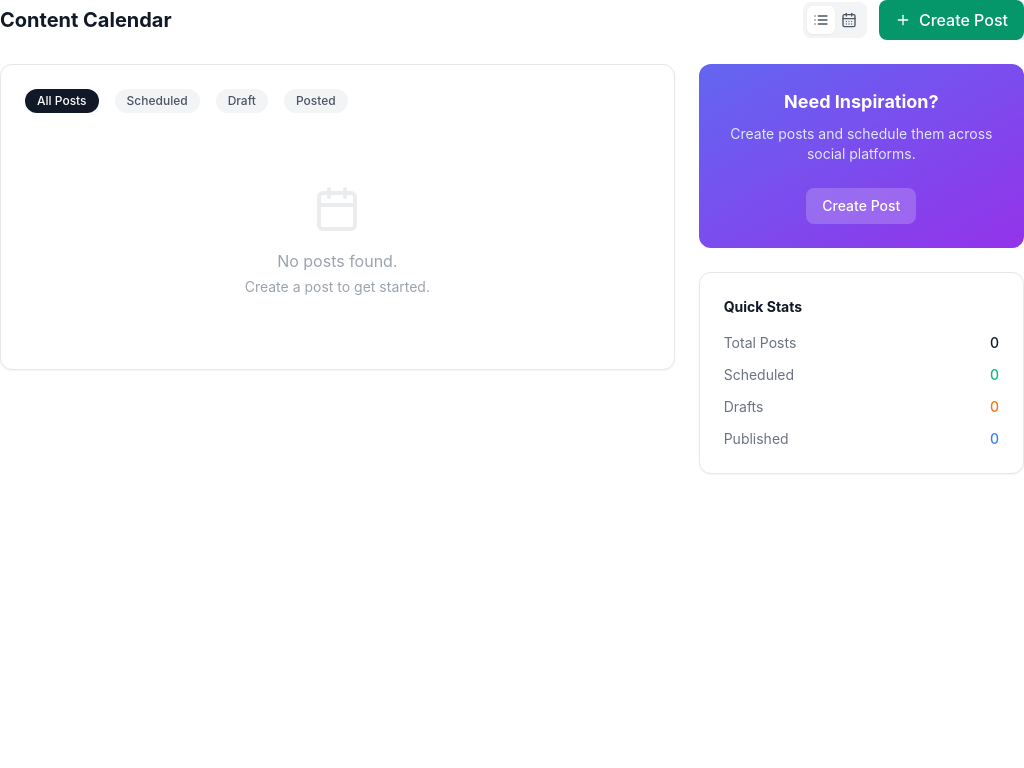
Test case: ContentPlanner › opens create post modal when button clicked
Expected: the text "No posts found." is shown, [277,251,398,271]
Click the button "Create Post" in the row of "Content Calendar": click(951, 20) [879,0,1023,40]
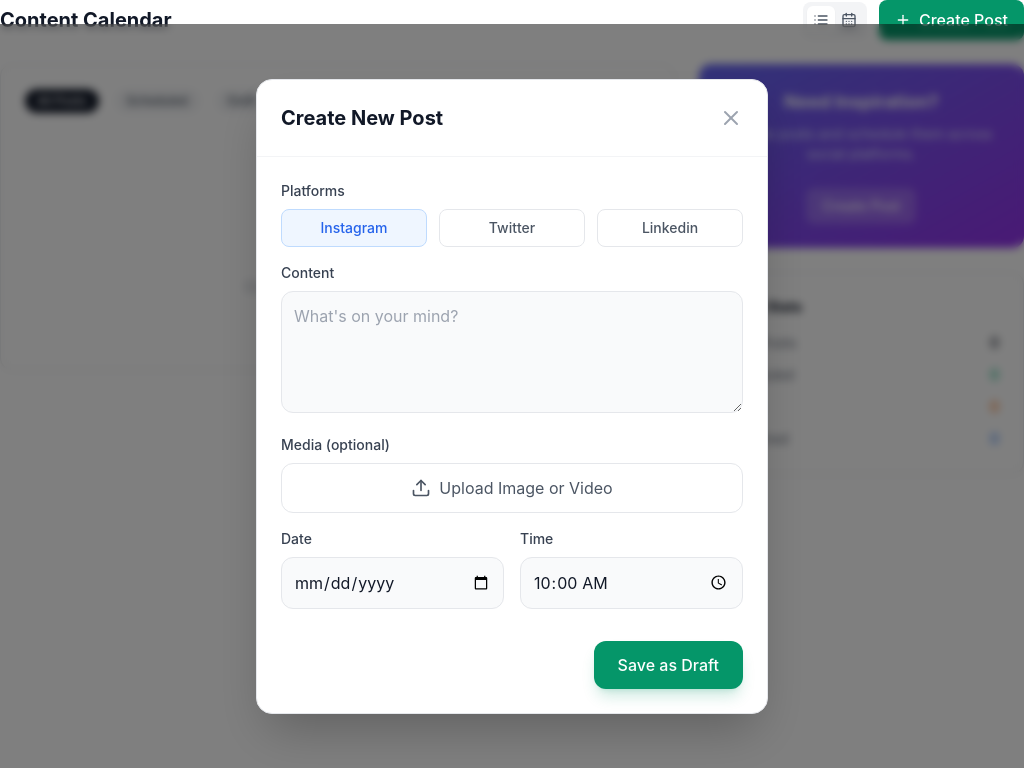
Expected: the heading "Create New Post" is shown, [281,104,443,132]
